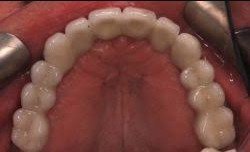UL1BC_healthy: (184, 63, 213, 87)
UL1M_healthy: (198, 109, 235, 147)
UL2BC_healthy: (192, 85, 225, 107)
ULCI_healthy: (124, 8, 155, 39)
ULC_healthy: (177, 37, 201, 67)
ULLI_healthy: (155, 19, 178, 47)
UR1BC_healthy: (31, 60, 61, 86)
UR1M_healthy: (11, 109, 49, 150)
UR2BC_healthy: (25, 84, 56, 111)
URCI_healthy: (90, 8, 123, 39)
URC_healthy: (46, 34, 75, 68)
URLI_healthy: (67, 18, 93, 52)
